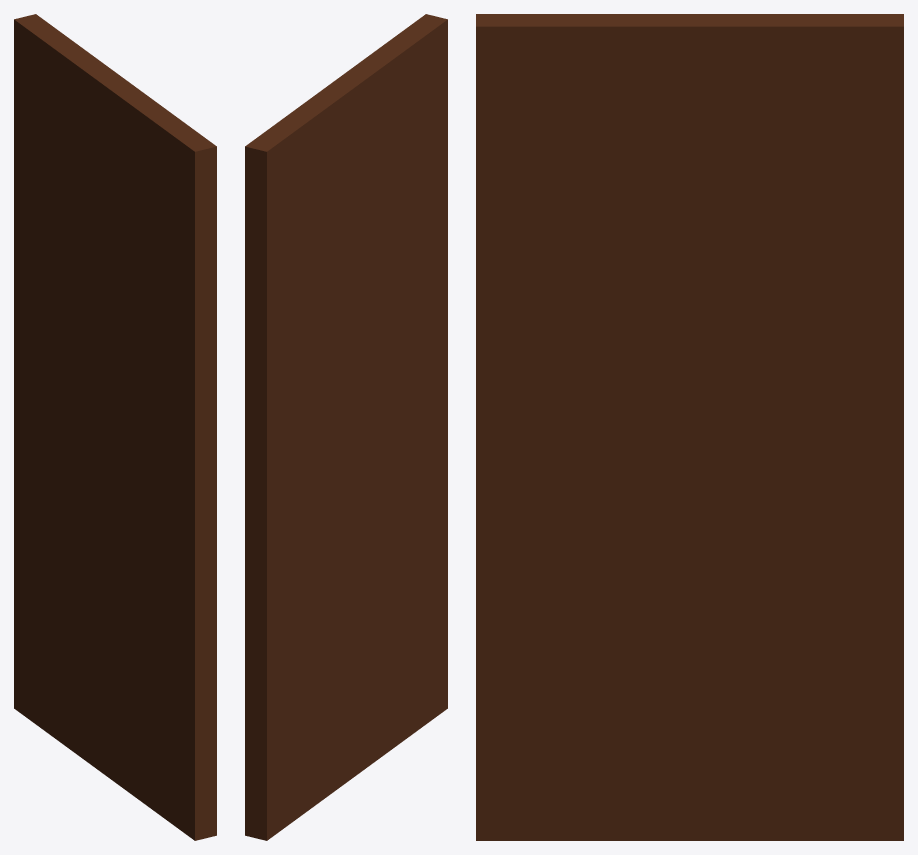
Rendered from front-door.glb.
3 renders of one model, left to right at view 1: azimuth 30°, elevation 25°; view 2: azimuth 150°, elevation 25°; view 3: azimuth 270°, elevation 25°, orthographic. The views are drawn at different scales.
Size of the model in its own units: 7 by 210 by 100.
